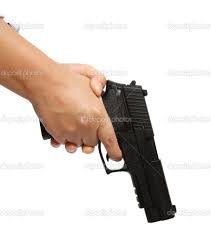gun: (27, 59, 185, 225)
